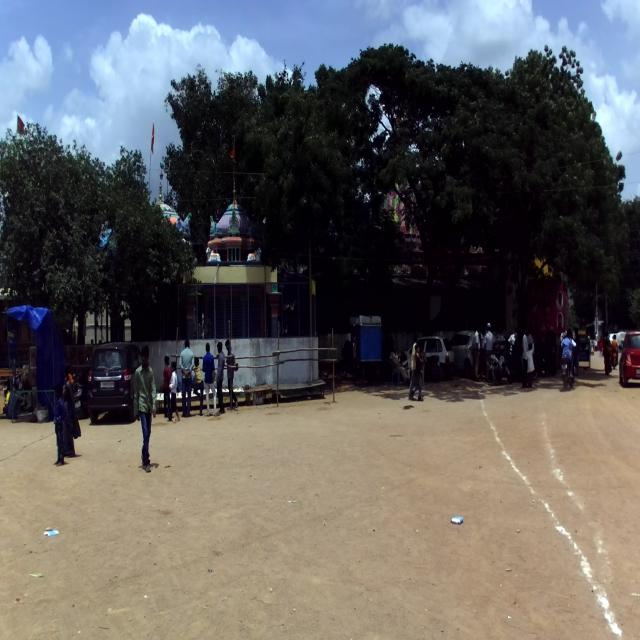car: (88, 341, 150, 426), (400, 334, 453, 378)
motorcycle: (560, 342, 574, 389)
